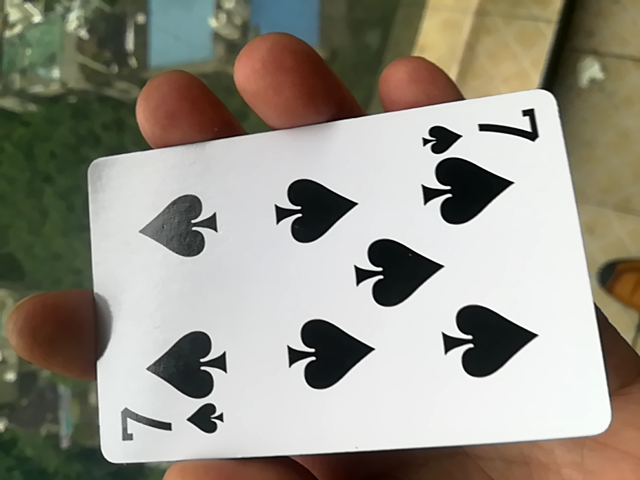ht 7: (77, 100, 613, 471)
